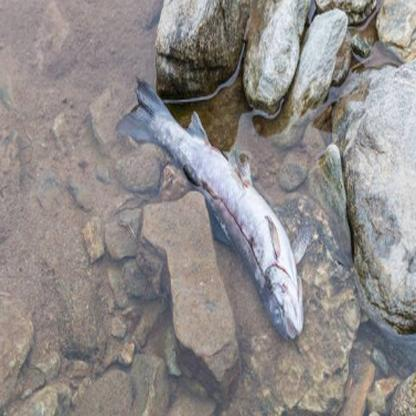deceased fish: (118, 75, 314, 346)
